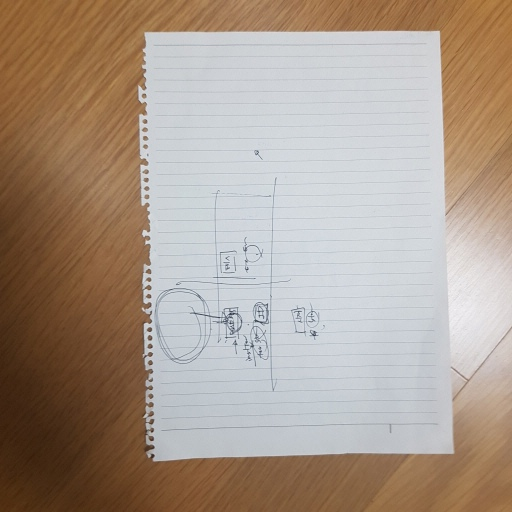Paper_2: (134, 25, 460, 467)
